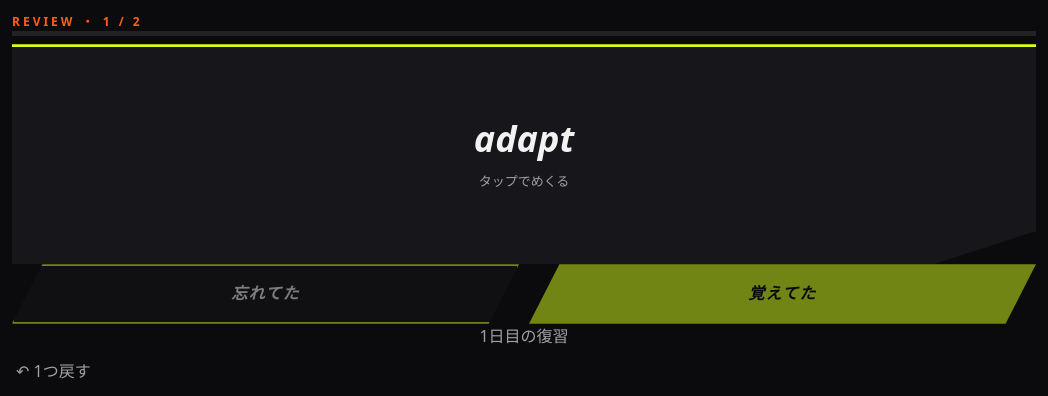
Review › 全部答えると送信され、完了画面で連続日数が +1 される
Click the button "adapt タップでめくる" at (73, 154), box 12,44 -> 1036,264
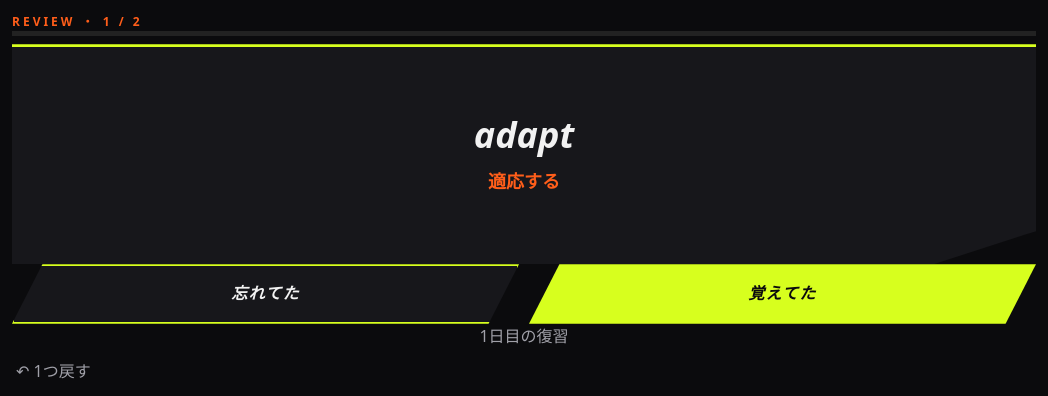
Click the button "覚えてた" at (782, 294), box 529,264 -> 1036,324
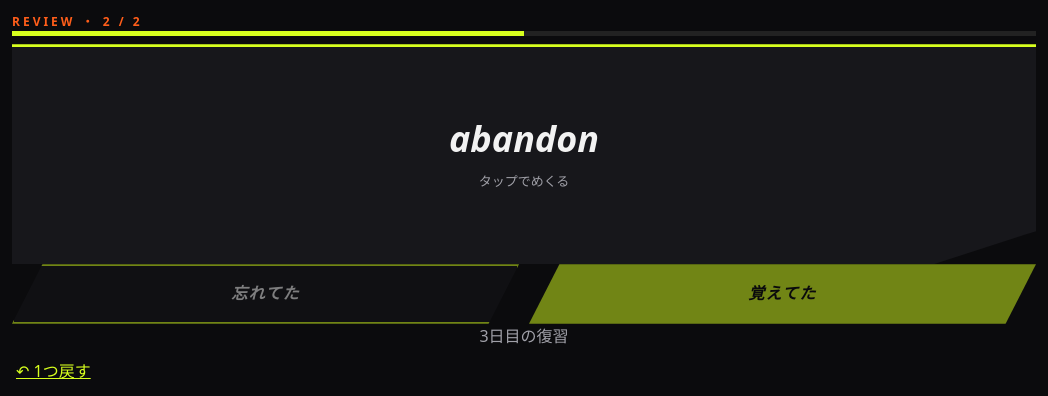
Click the button "abandon タップでめくる" at (73, 154), box 12,44 -> 1036,264
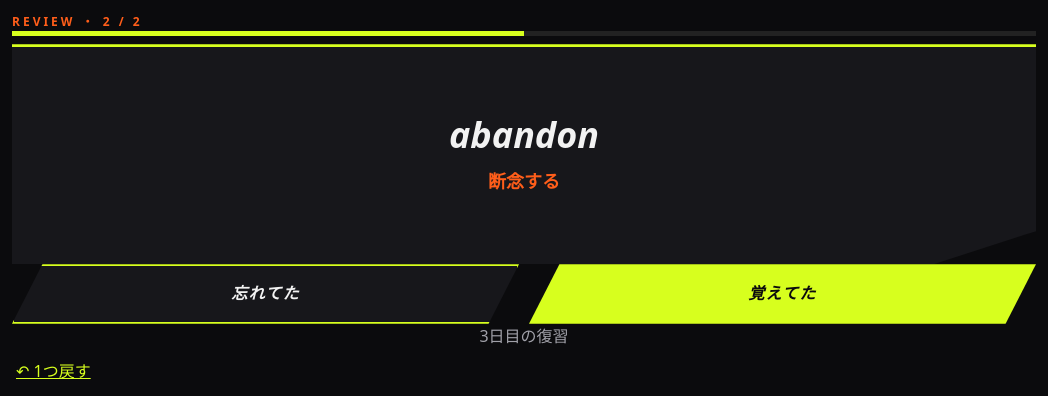
Click the button "忘れてた" at (266, 294), box 12,264 -> 519,324
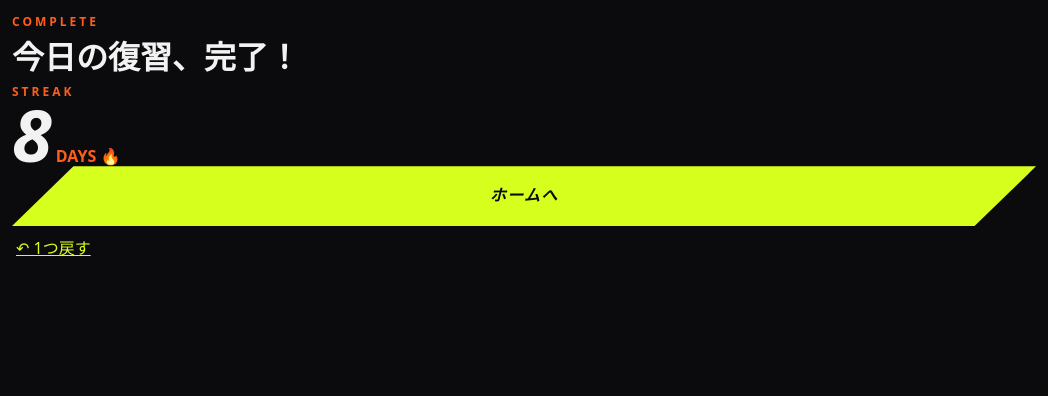
Expected: the heading "今日の復習、完了！" is shown, 12,35 -> 300,78
Expected: the element with test id "streak" shows "8", 12,85 -> 52,183
